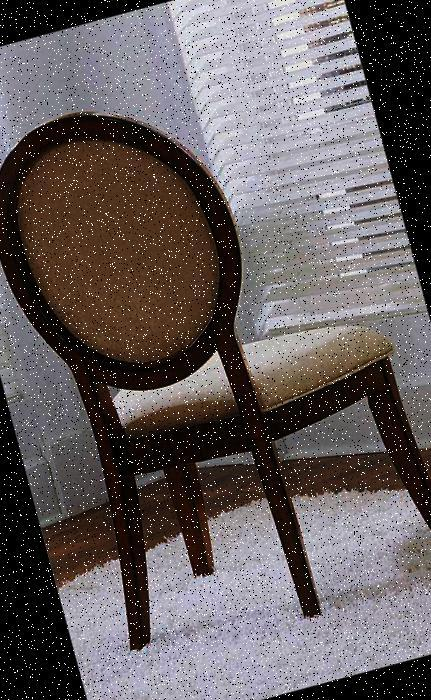Silla: (0, 53, 430, 677)
